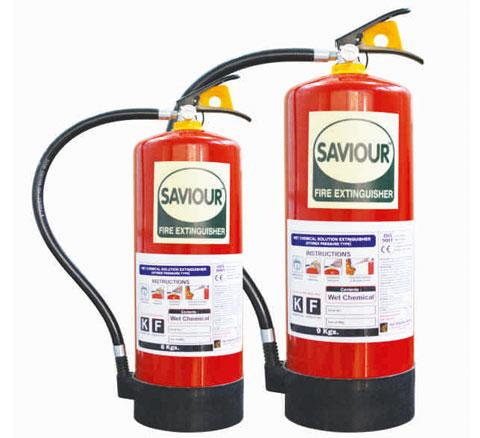Fire Extinguisher: (256, 6, 455, 438), (28, 70, 249, 430)
